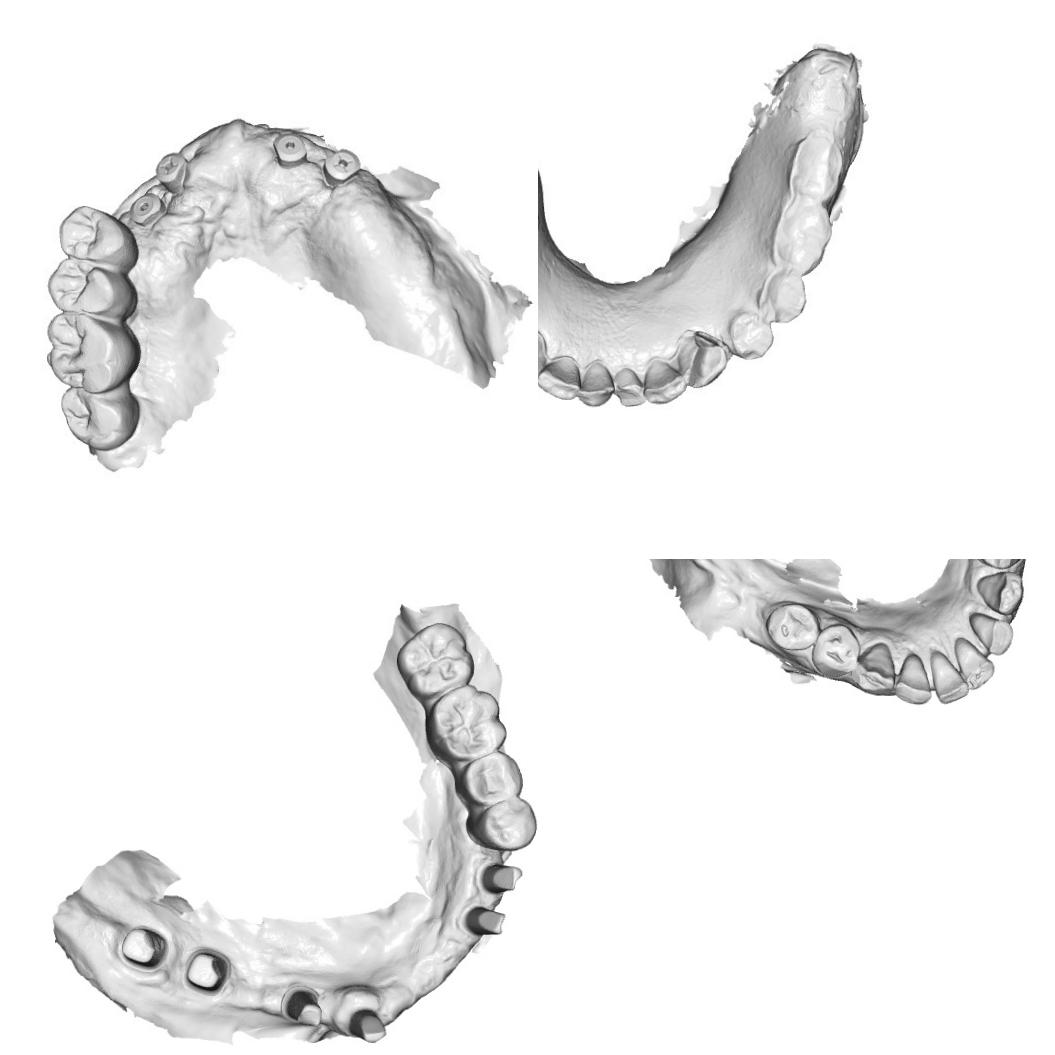abutment: (183, 942, 233, 998), (118, 922, 169, 974), (345, 1000, 388, 1047), (282, 984, 326, 1028), (460, 903, 508, 939), (479, 862, 524, 896)
canine: (678, 331, 732, 392), (849, 642, 896, 696), (976, 570, 1024, 615)
implant: (272, 128, 312, 170), (128, 194, 168, 224)
implant_plus: (322, 145, 362, 188), (154, 154, 192, 188)
incisor: (952, 636, 996, 691), (928, 648, 970, 705), (894, 652, 933, 706), (968, 611, 1014, 656), (538, 354, 579, 403), (645, 358, 685, 408), (578, 362, 613, 406), (615, 368, 644, 400)
molar: (44, 312, 136, 388), (425, 683, 505, 764), (395, 620, 474, 702), (52, 383, 138, 452)
premolar: (42, 252, 136, 316), (53, 200, 138, 262), (465, 794, 537, 853), (456, 749, 525, 807), (810, 622, 862, 679), (764, 602, 822, 652)
